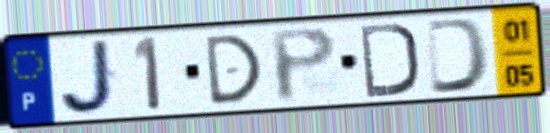1: (131, 35, 165, 114)
D: (423, 15, 494, 97), (357, 20, 422, 101), (202, 31, 266, 109)
J: (57, 37, 121, 118)
P: (267, 24, 340, 105)
